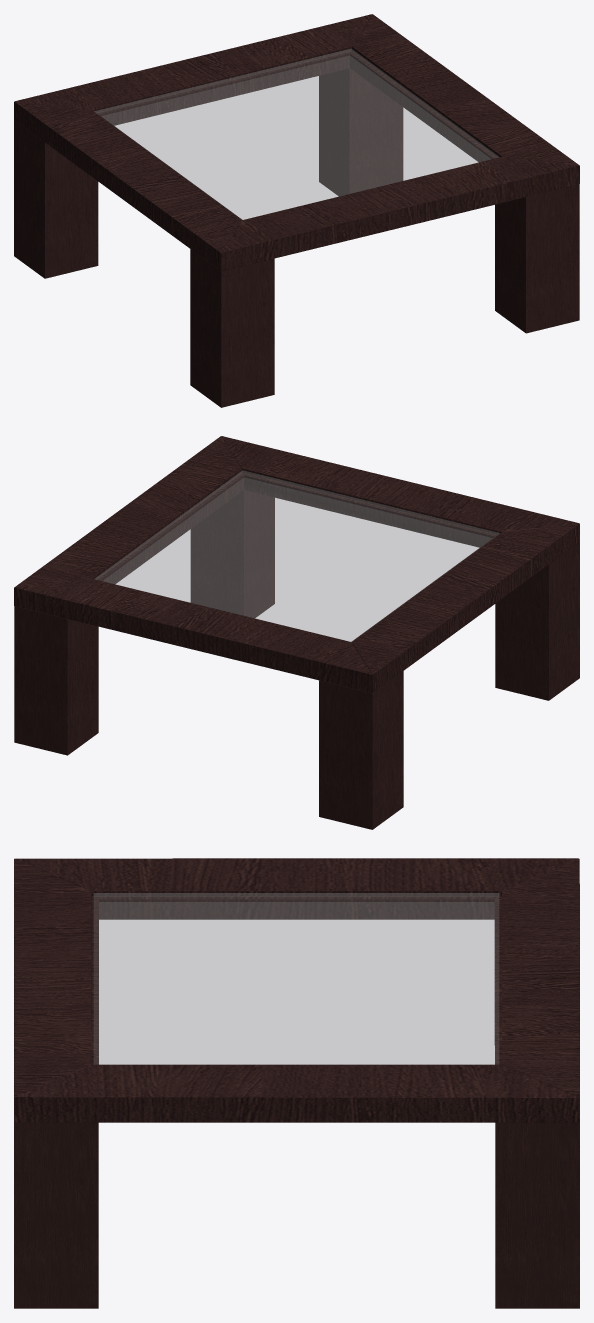
Rendered from Coffee table.FBX.
The picture shows the model from 3 angles, top to bottom: view 1: azimuth 30°, elevation 25°; view 2: azimuth 150°, elevation 25°; view 3: azimuth 270°, elevation 25°; orthographic projection. The views are drawn at different scales.
Visible parts, largest first — view 1: coffee table; view 2: coffee table; view 3: coffee table.
Part boxes in pixels (x1,y1,x2,y2): coffee table: [14, 14, 579, 407]; coffee table: [14, 436, 579, 829]; coffee table: [14, 858, 579, 1308].
Bounding box in the file's own units: 95.03 × 39.22 × 95.08.
2 materials, 1 textured.
